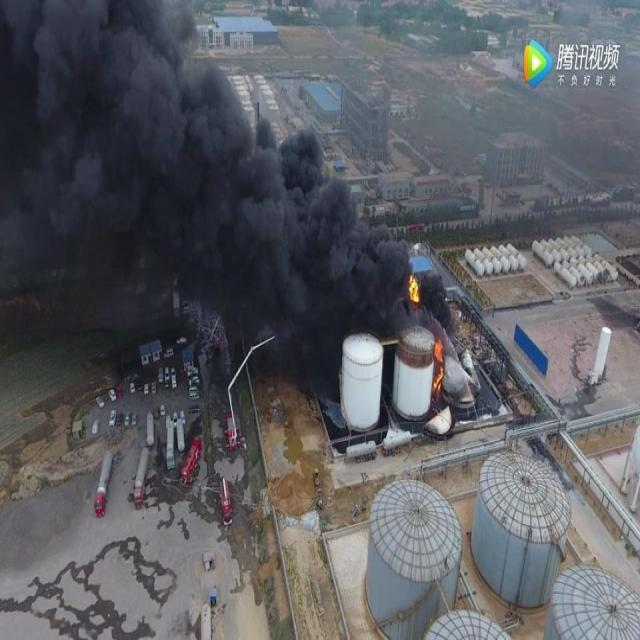Fire: (432, 337, 444, 392), (408, 275, 423, 305)
Smoke: (1, 1, 460, 401)
